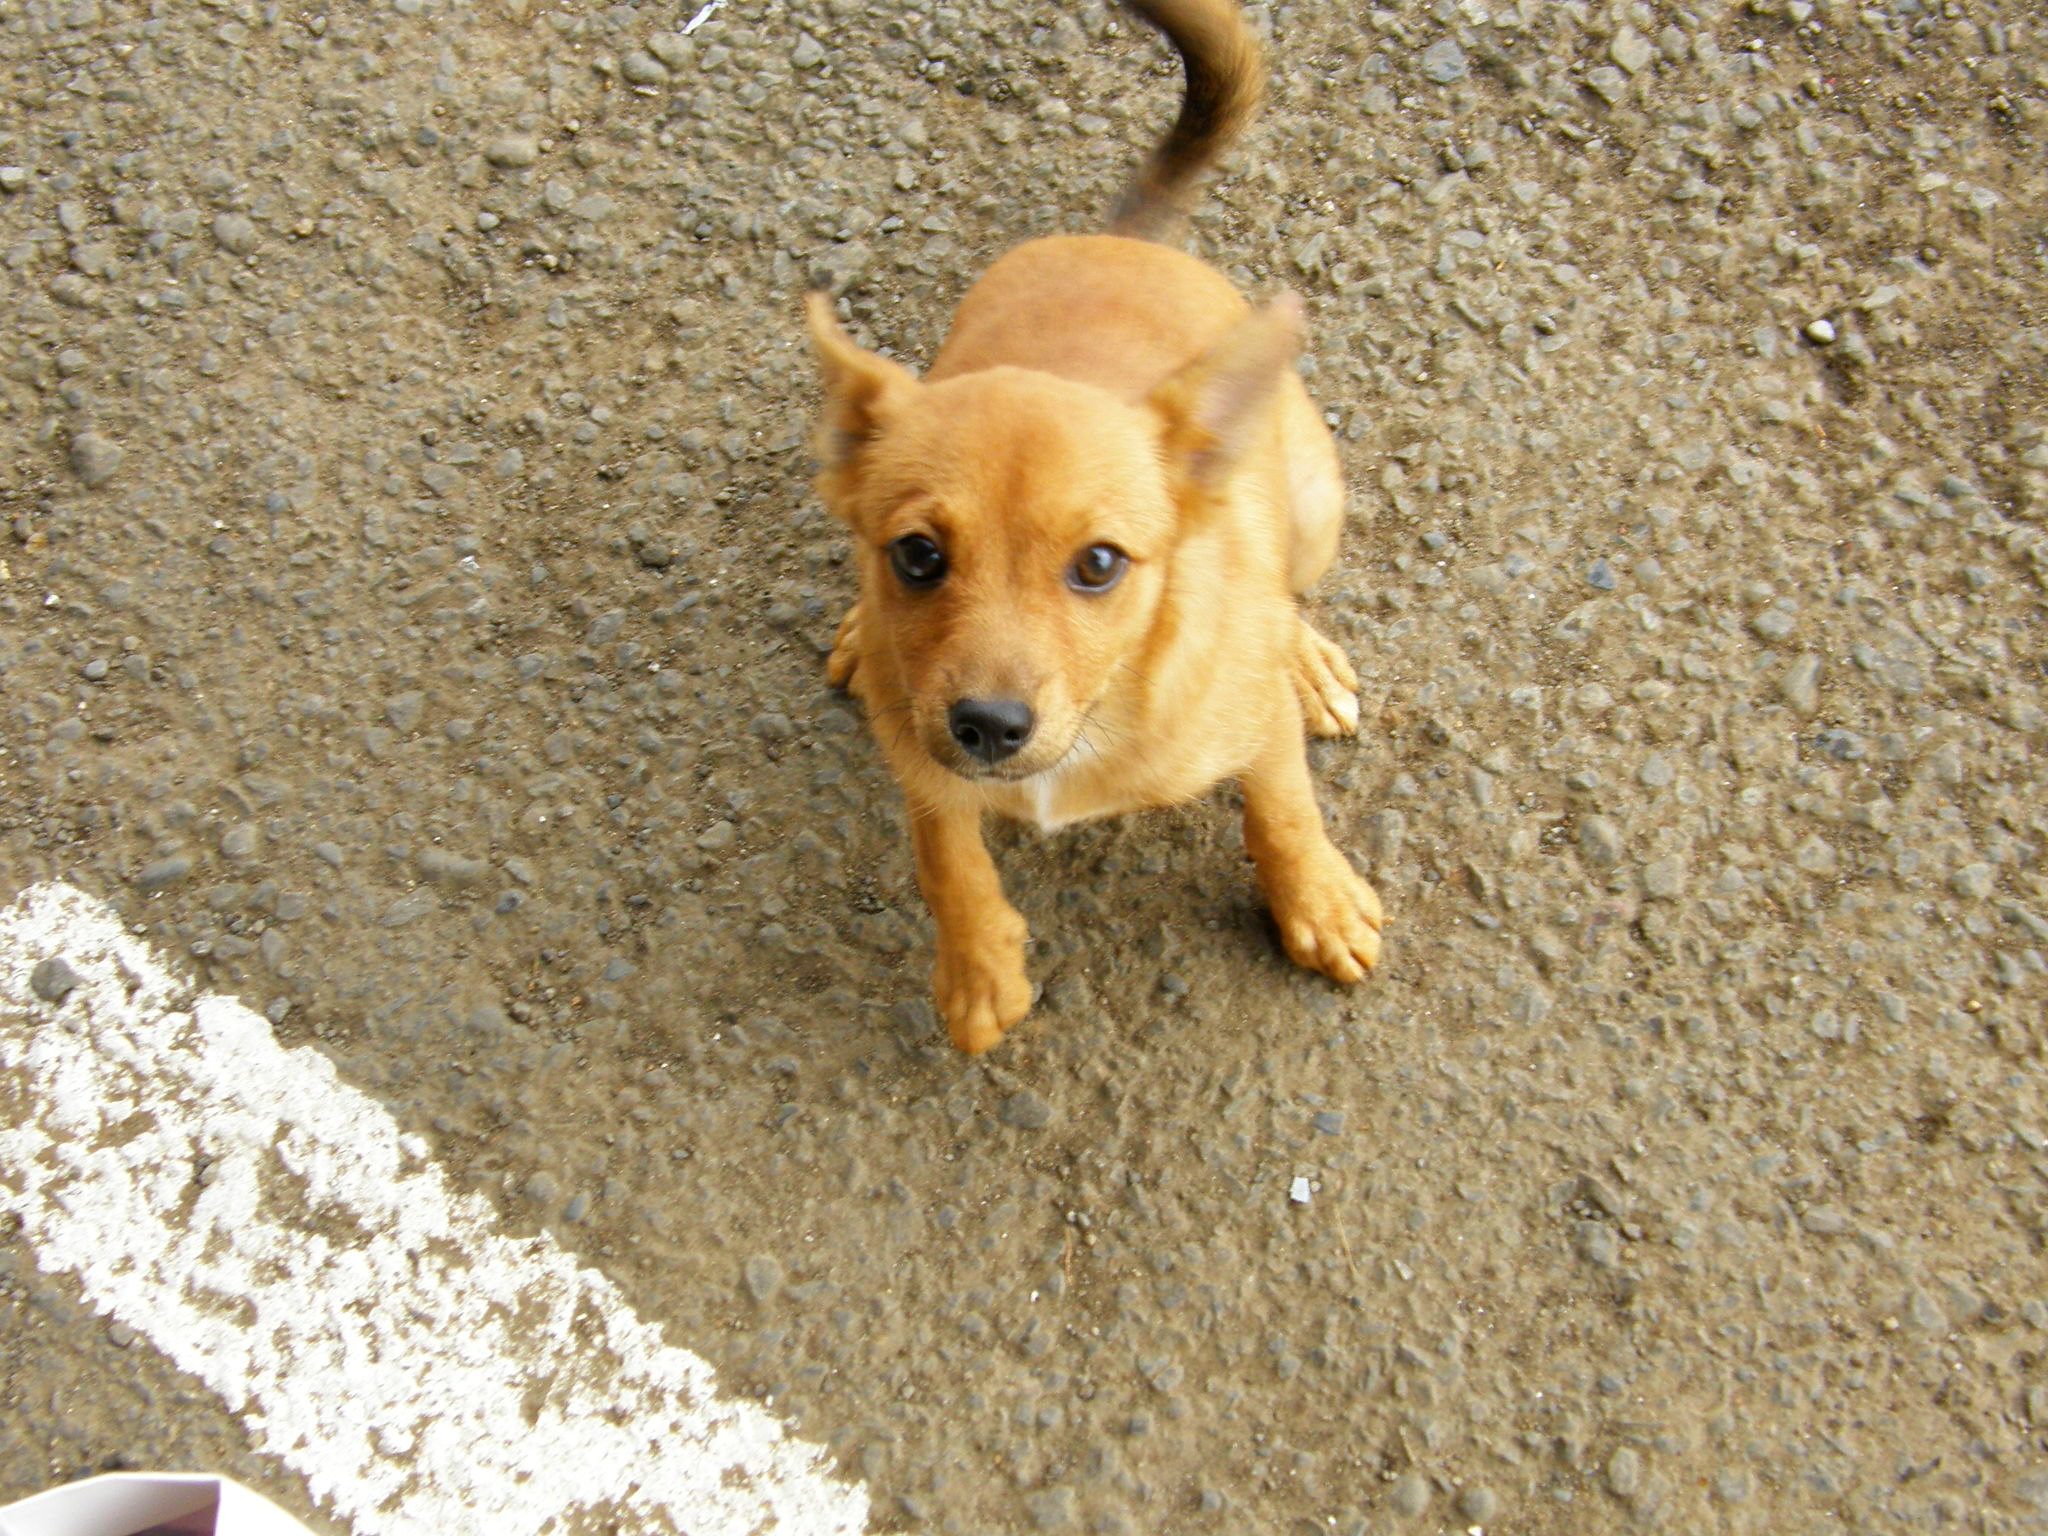dog: (793, 144, 1430, 1073)
